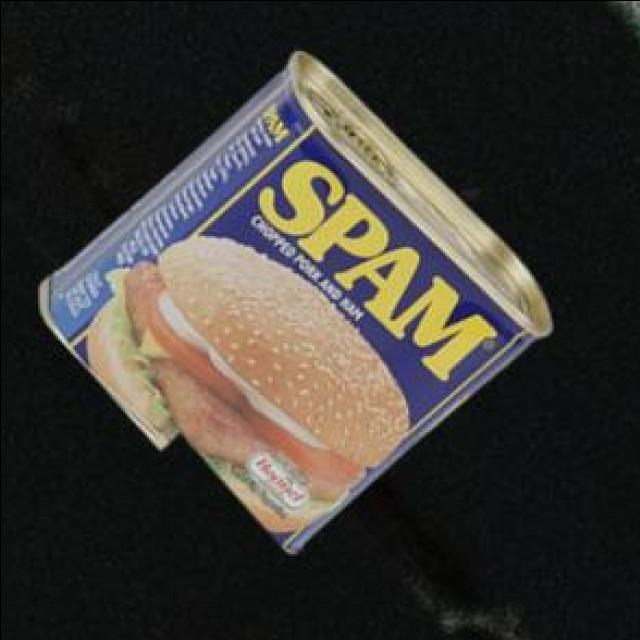logam: (36, 49, 547, 547)
